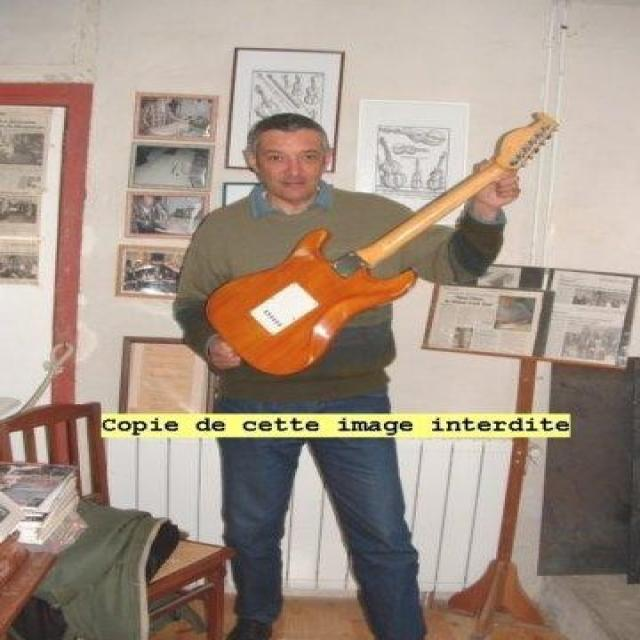guitar: (200, 107, 567, 379)
